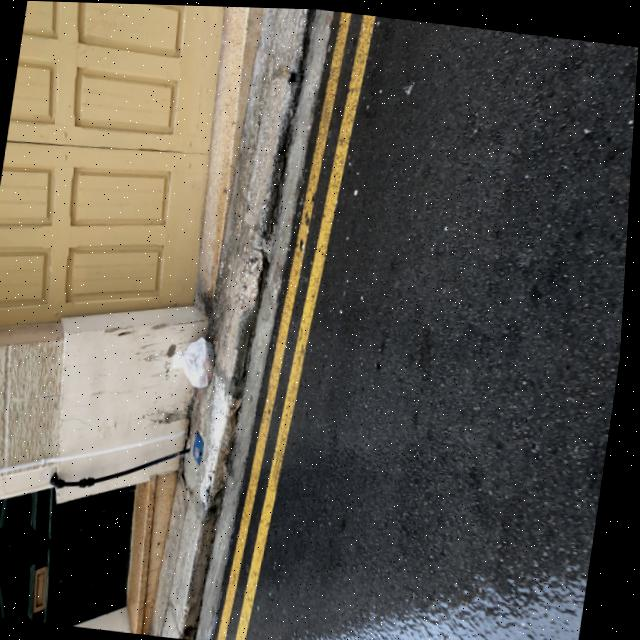Organic Waste -White Bag-: (171, 329, 222, 390)
